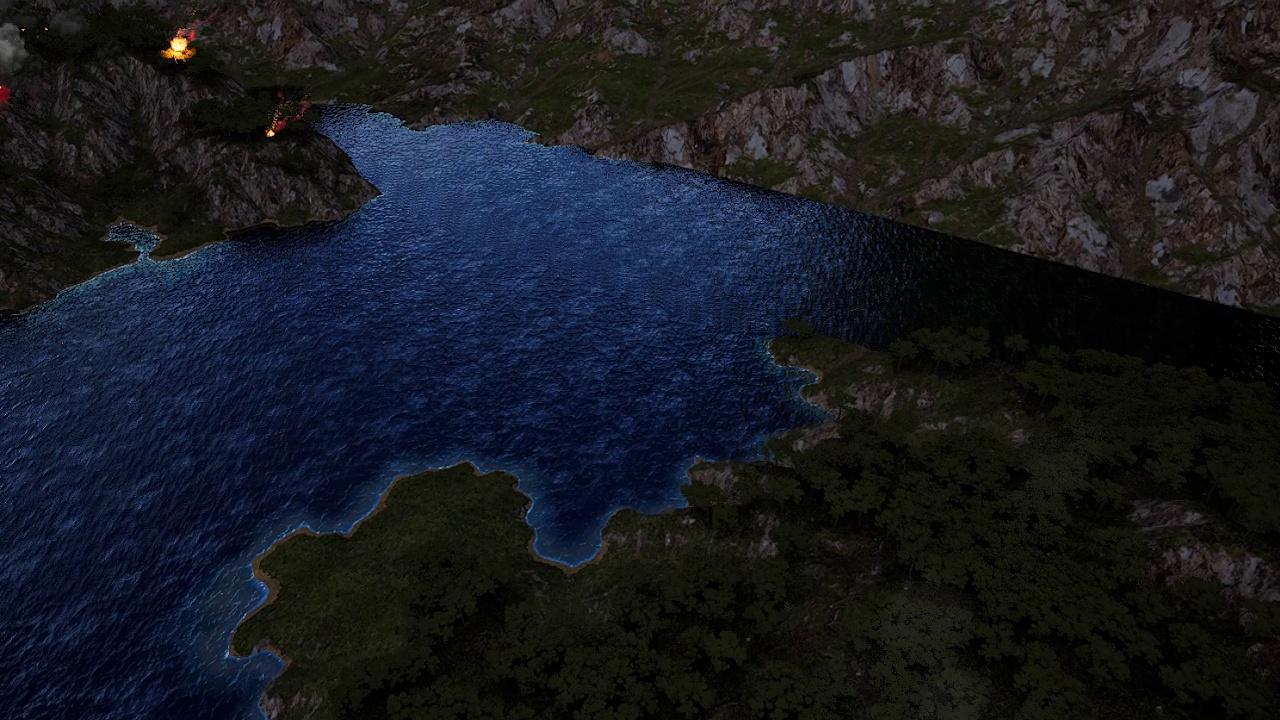fire: (168, 34, 195, 58), (266, 116, 286, 138)
smoke: (0, 22, 28, 104)
